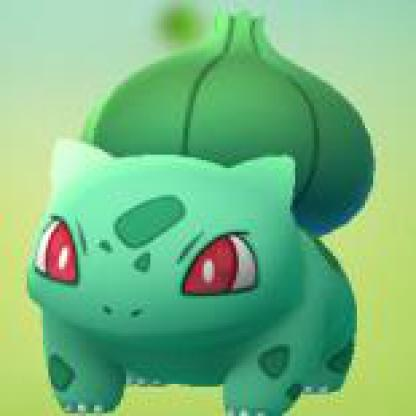Bulbasaur: (1, 8, 415, 415)
